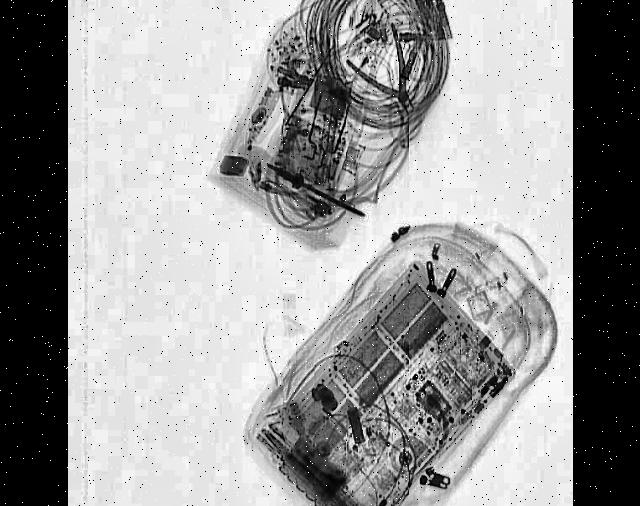Pliers: (342, 10, 432, 138)
